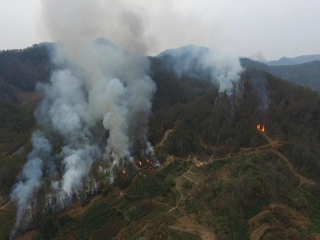smoke: (25, 5, 158, 203), (170, 40, 249, 97)
